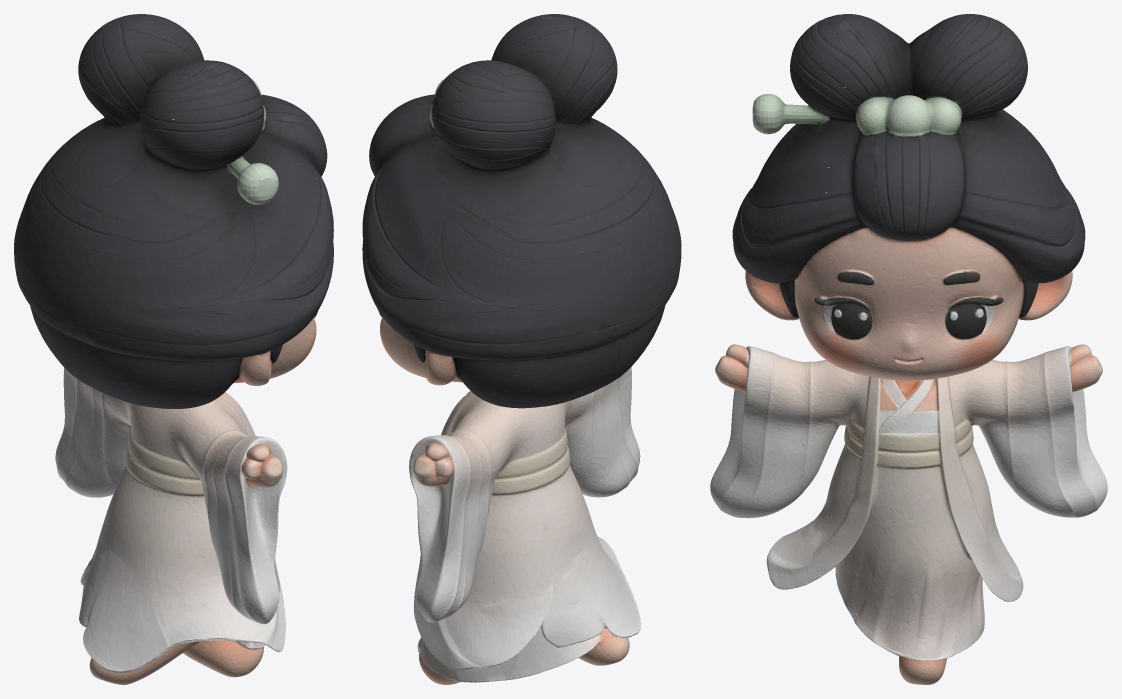
The picture shows the model from 3 angles, left to right: view 1: azimuth 30°, elevation 25°; view 2: azimuth 150°, elevation 25°; view 3: azimuth 270°, elevation 25°; orthographic projection. The views are drawn at different scales.
Parts seen in each view (by area): view 1: tripo_node_eb9c6e9e-23b7-4e0e-ac37-67288663ae0a; view 2: tripo_node_eb9c6e9e-23b7-4e0e-ac37-67288663ae0a; view 3: tripo_node_eb9c6e9e-23b7-4e0e-ac37-67288663ae0a.
Boxes of the visible parts, left/top/right/bottom form: tripo_node_eb9c6e9e-23b7-4e0e-ac37-67288663ae0a: left=14, top=14, right=333, bottom=684; tripo_node_eb9c6e9e-23b7-4e0e-ac37-67288663ae0a: left=362, top=14, right=681, bottom=684; tripo_node_eb9c6e9e-23b7-4e0e-ac37-67288663ae0a: left=710, top=14, right=1107, bottom=684.
Size of the model in its own units: 0.444 by 1 by 0.5742.
1 material, 1 textured.
